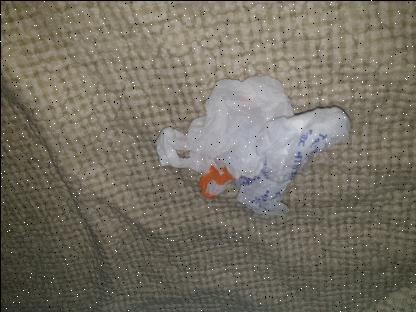Others: (150, 64, 352, 219)
